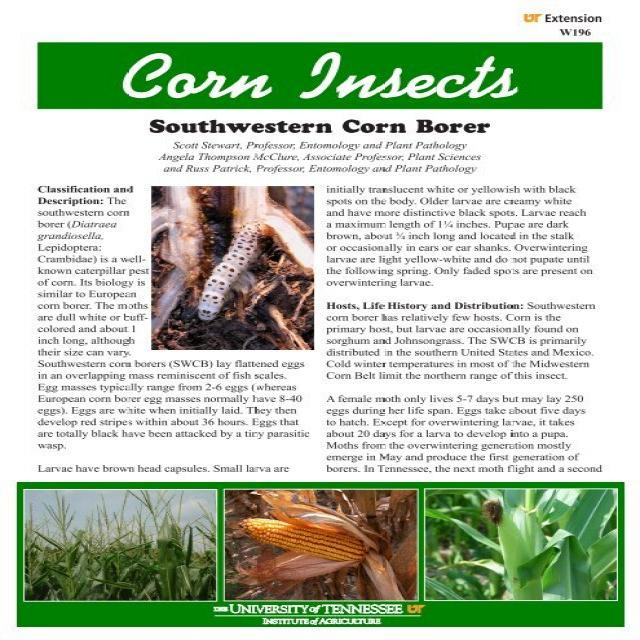cornborer-Larva-: (194, 215, 277, 322)
